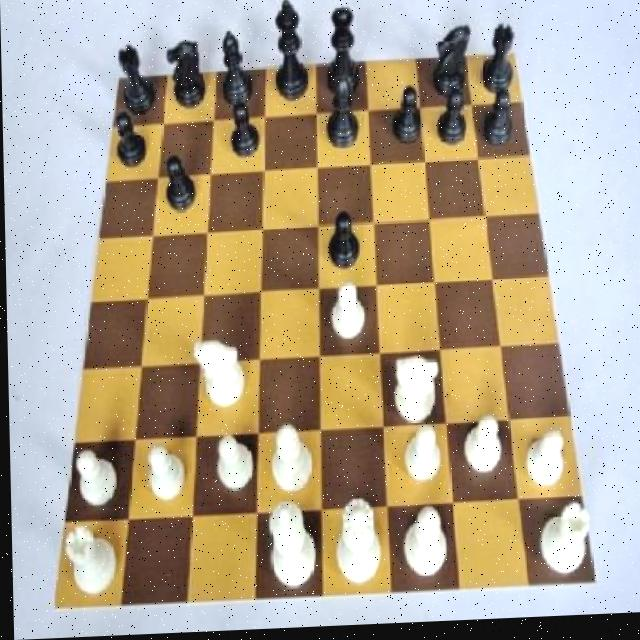bishop: (325, 76, 366, 162), (215, 31, 259, 111)
black-bishop: (268, 3, 315, 109)
black-king: (164, 36, 210, 122), (431, 22, 474, 107)
black-knight: (160, 156, 201, 218), (325, 209, 360, 281), (227, 103, 262, 171), (112, 113, 149, 175), (433, 89, 467, 151), (391, 90, 425, 150), (480, 96, 514, 156)
black-pawn: (323, 7, 362, 113)
black-queen: (111, 41, 157, 121), (483, 25, 518, 103)
black-rook: (397, 511, 450, 591), (269, 423, 314, 505)
white-bishop: (261, 506, 321, 600)
white-king: (191, 336, 248, 417), (391, 348, 440, 430)
white-knight: (515, 431, 570, 496), (206, 432, 255, 501), (72, 444, 120, 513), (458, 418, 504, 481), (142, 441, 187, 504), (328, 286, 367, 352), (400, 428, 440, 492)
white-pawn: (331, 499, 387, 595)
white-queen: (534, 504, 598, 587), (59, 524, 119, 605)
